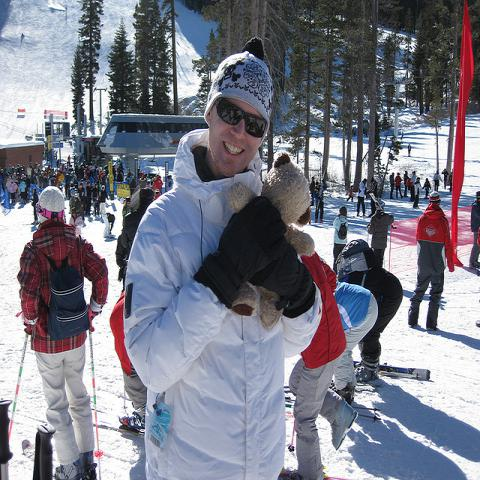bus: (95, 113, 212, 166)
